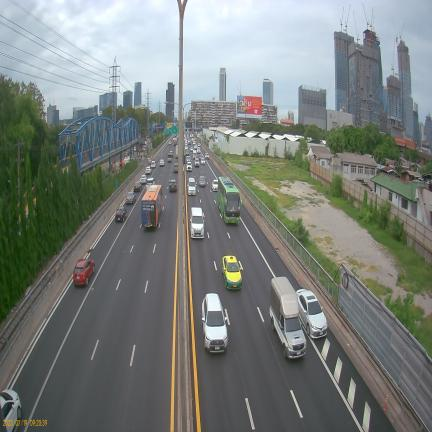bus: (217, 177, 242, 223), (141, 184, 162, 228)
car: (202, 293, 228, 352), (297, 289, 327, 338), (73, 259, 95, 285), (115, 206, 127, 222), (125, 191, 136, 204), (169, 179, 177, 192), (198, 176, 206, 187), (134, 181, 141, 192), (212, 179, 218, 191), (140, 174, 147, 184), (147, 177, 154, 186), (173, 163, 179, 173), (145, 166, 152, 174), (186, 162, 192, 171), (16, 427, 18, 429), (2, 429, 3, 430), (148, 180, 148, 184)
pickup: (270, 277, 306, 358)
taxi: (222, 255, 242, 289)
van: (190, 207, 204, 238), (188, 177, 196, 195)
